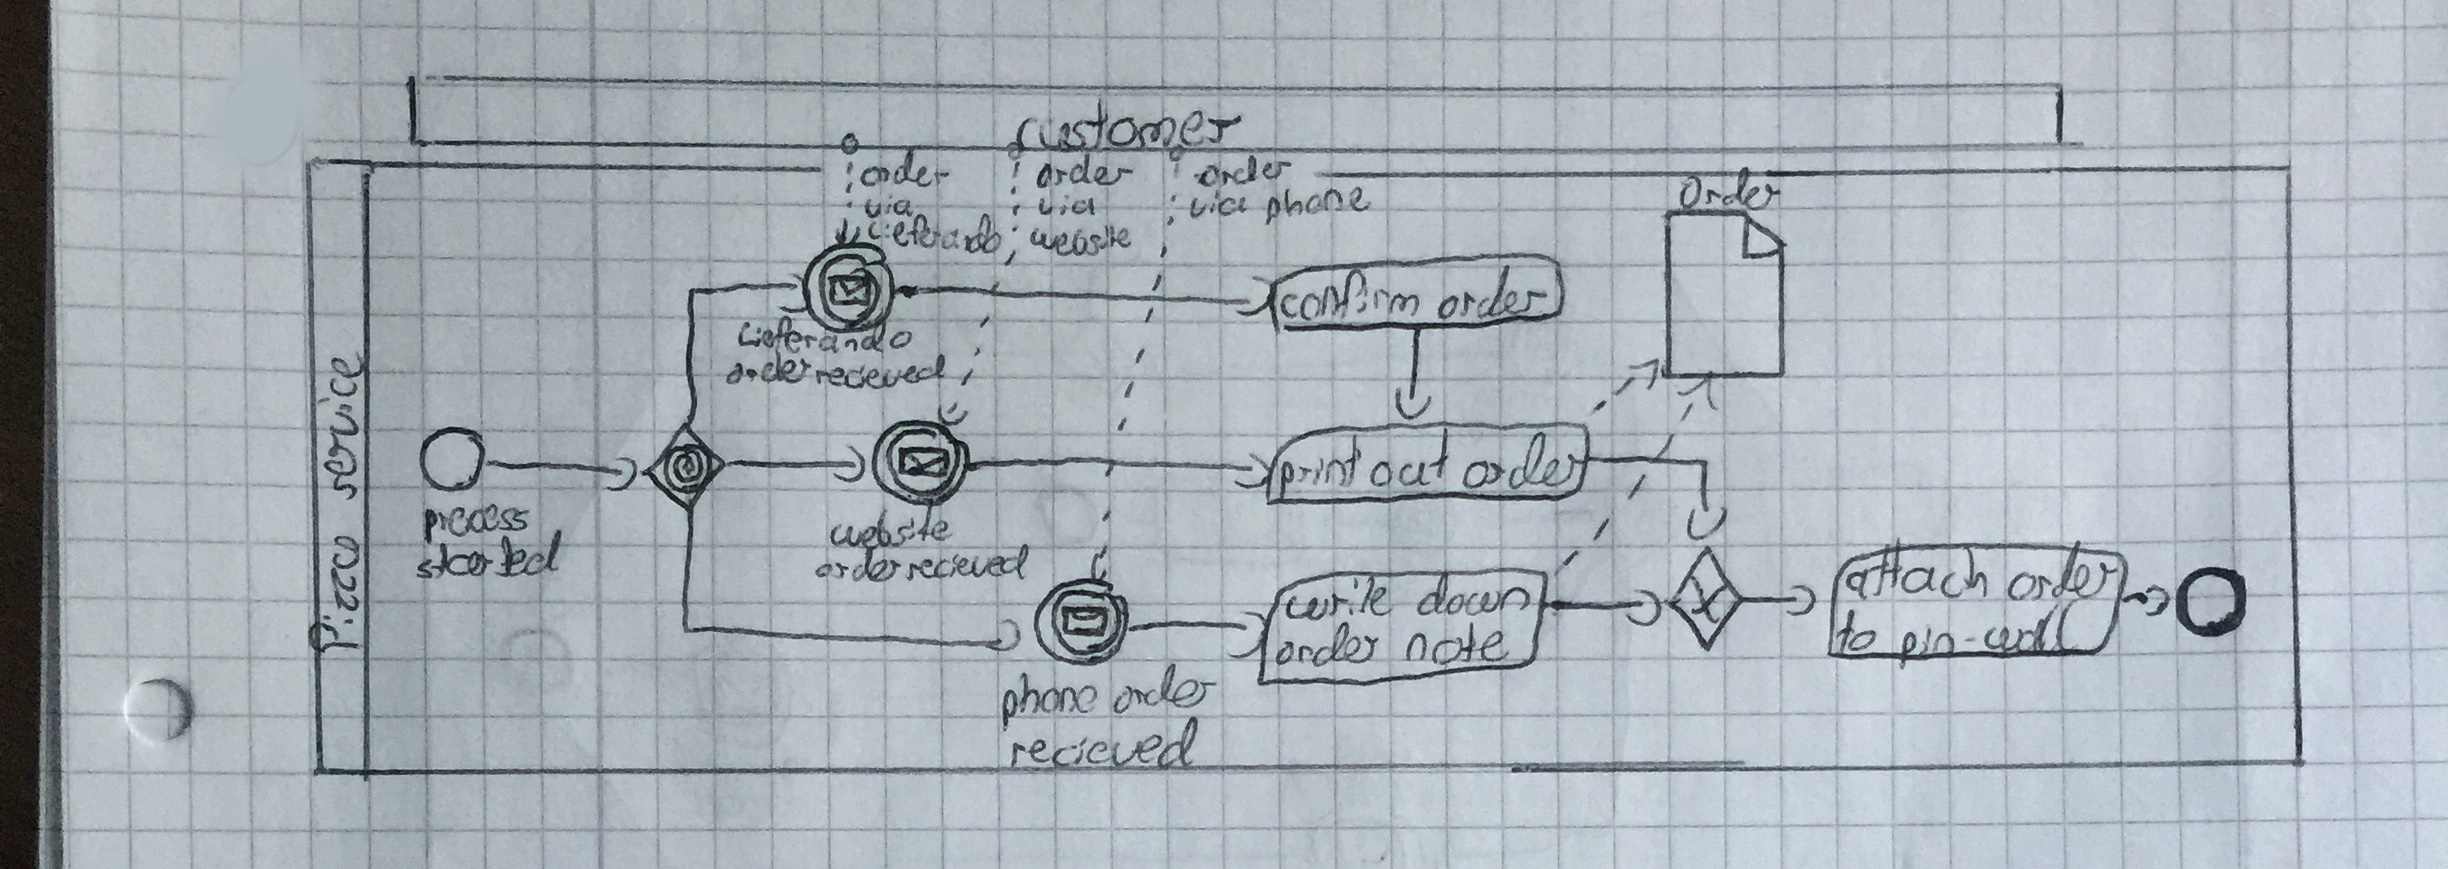Lieferando: (737, 317, 913, 357), (863, 217, 1001, 254)
Pizza: (304, 534, 362, 657)
attach: (1842, 544, 1992, 601)
confirm: (1279, 267, 1422, 325)
customer: (1015, 95, 1243, 150)
down: (1414, 576, 1532, 616)
note: (1407, 624, 1510, 668)
order: (1461, 434, 1586, 491), (2008, 544, 2123, 601), (1438, 268, 1549, 321), (1112, 666, 1218, 718), (1269, 622, 1382, 669), (1678, 170, 1783, 214), (859, 148, 951, 189), (1037, 153, 1135, 186), (1191, 158, 1293, 189), (813, 552, 902, 585), (724, 356, 813, 388)
out: (1368, 431, 1453, 491)
phone: (991, 674, 1101, 729), (1261, 186, 1371, 222)
pin-wall: (1897, 601, 2075, 668)
print: (1277, 435, 1363, 498)
process: (418, 502, 529, 543)
recieved: (1007, 721, 1205, 766), (810, 353, 949, 390), (904, 548, 1034, 585)
service: (315, 343, 365, 501)
started: (412, 534, 567, 580)
to: (1833, 605, 1886, 654)
via: (1034, 189, 1098, 223), (1183, 190, 1251, 220), (860, 192, 915, 223)
website: (831, 505, 952, 548), (1027, 218, 1130, 257)
write: (1286, 577, 1396, 622)
